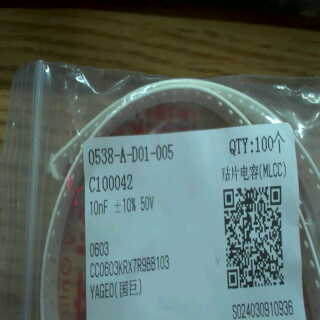10nF: (87, 196, 109, 221)
